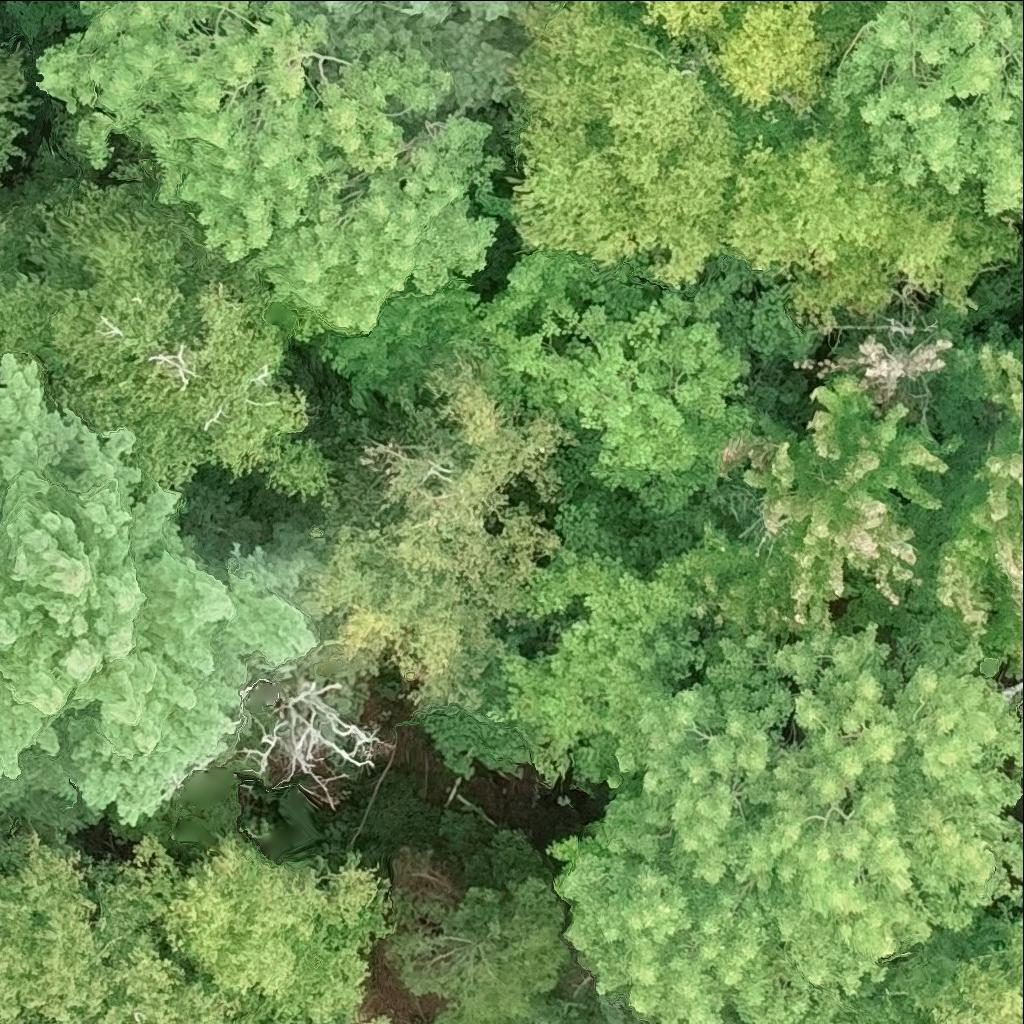crown: (555, 632, 1023, 1023), (22, 0, 502, 335), (0, 354, 317, 828), (0, 128, 340, 509), (313, 364, 579, 710), (506, 0, 754, 291), (726, 104, 1018, 328), (478, 554, 713, 779), (530, 299, 753, 515), (747, 380, 944, 623), (154, 832, 391, 1023), (0, 832, 234, 1023), (819, 0, 1023, 219), (321, 249, 599, 400), (935, 323, 1023, 673), (389, 882, 593, 1023), (293, 0, 520, 110), (636, 0, 832, 127), (846, 894, 1023, 1023), (238, 676, 390, 806), (673, 513, 829, 639), (0, 44, 36, 179), (595, 985, 654, 1023), (368, 1014, 396, 1023), (263, 0, 272, 8)
